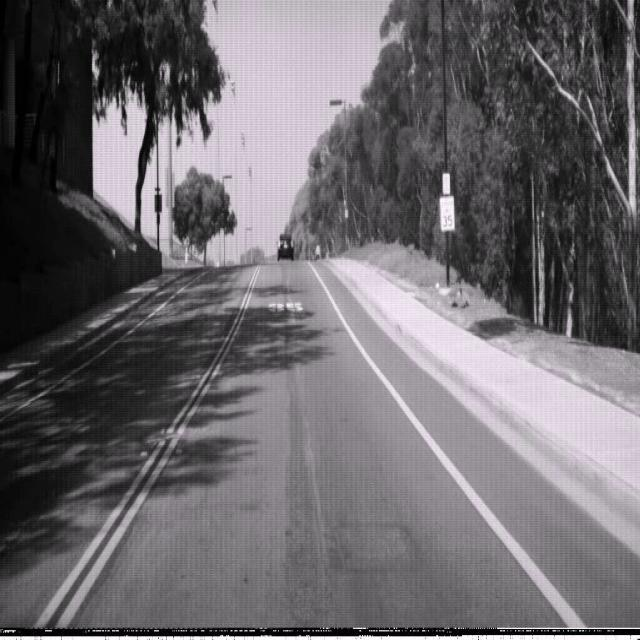speedLimit35: (439, 195, 455, 232)
